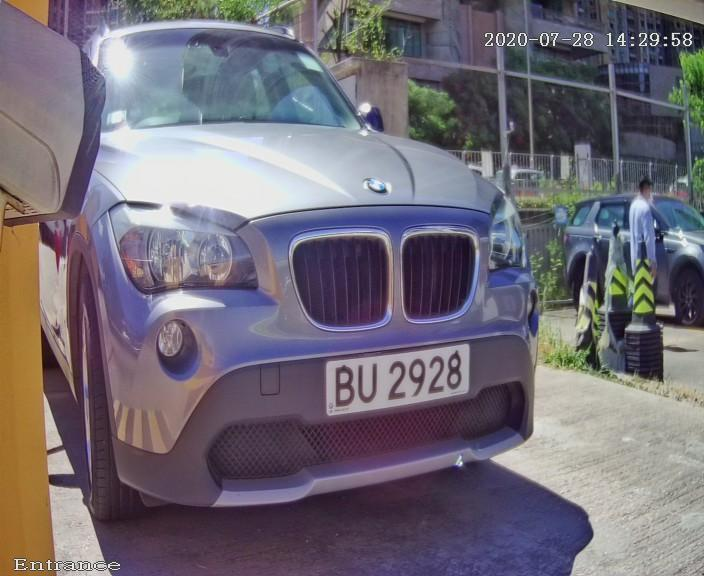privatecar: (10, 19, 629, 559)
